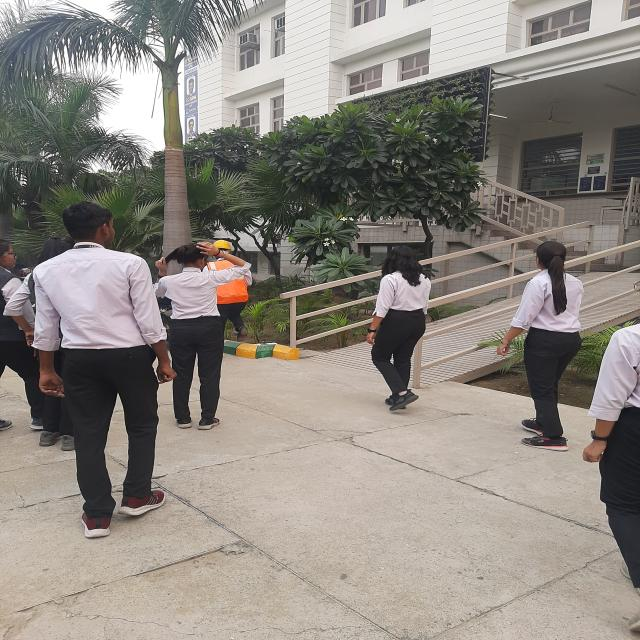safe: (204, 238, 254, 340)
unsafe: (20, 200, 173, 535), (508, 237, 584, 453), (156, 240, 231, 433), (363, 244, 434, 416)
